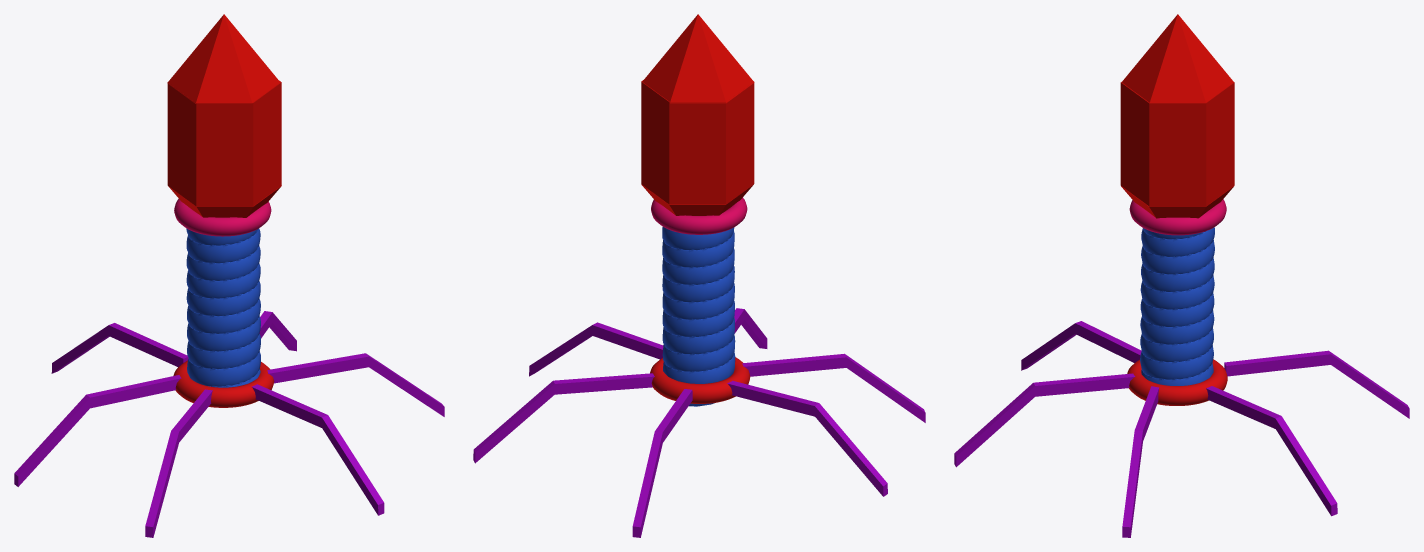
File: bacteriophage.fbx
The picture shows the model from 3 angles, left to right: view 1: azimuth 30°, elevation 25°; view 2: azimuth 150°, elevation 25°; view 3: azimuth 270°, elevation 25°; orthographic projection.
Parts seen in each view (by area): view 1: Cone.001, Circle, Cube.003, Cube.002, Cube.001, Cube.004, Cube.005, Torus.001, Torus, Cube; view 2: Cone.001, Circle, Cube, Cube.003, Cube.004, Torus.001, Cube.005, Torus, Cube.001, Cube.002; view 3: Cone.001, Circle, Cube.002, Cube.005, Cube, Torus.001, Cube.004, Torus, Cube.001.
Boxes of the visible parts, x1,y1,x2,y2 form: Cone.001: [167, 14, 281, 217]; Circle: [186, 228, 260, 387]; Cube.003: [14, 375, 181, 486]; Cube.002: [251, 384, 384, 515]; Cube.001: [267, 353, 444, 416]; Cube.004: [145, 389, 212, 537]; Cube.005: [51, 323, 188, 373]; Torus.001: [173, 360, 274, 407]; Torus: [174, 199, 271, 236]; Cube: [259, 311, 296, 351]; Cone.001: [641, 14, 754, 215]; Circle: [662, 227, 735, 406]; Cube: [473, 373, 654, 463]; Cube.003: [727, 380, 887, 496]; Cube.004: [742, 353, 925, 422]; Torus.001: [650, 357, 750, 403]; Cube.005: [632, 389, 692, 537]; Torus: [651, 197, 747, 234]; Cube.001: [529, 322, 663, 376]; Cube.002: [734, 308, 767, 348]; Cone.001: [1120, 14, 1234, 218]; Circle: [1140, 227, 1214, 385]; Cube.002: [954, 373, 1135, 467]; Cube.005: [1224, 350, 1409, 418]; Cube: [1206, 386, 1337, 516]; Torus.001: [1127, 359, 1227, 405]; Cube.004: [1021, 321, 1141, 370]; Torus: [1129, 199, 1226, 235]; Cube.001: [1122, 386, 1158, 537].
Size of the model in its own units: 795 by 833 by 800.
